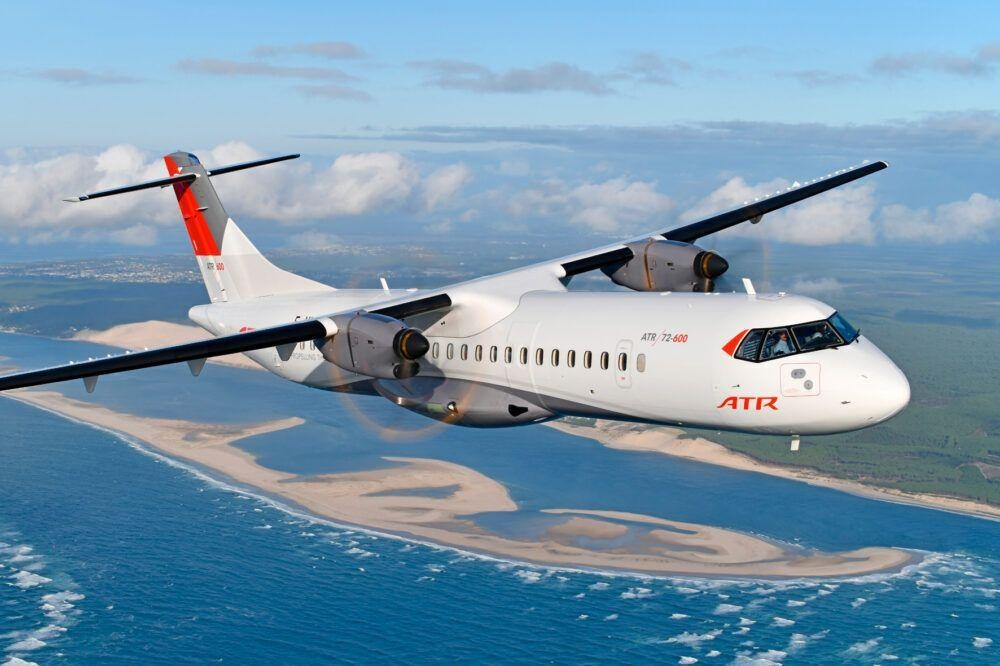aircraft: (20, 148, 902, 452)
